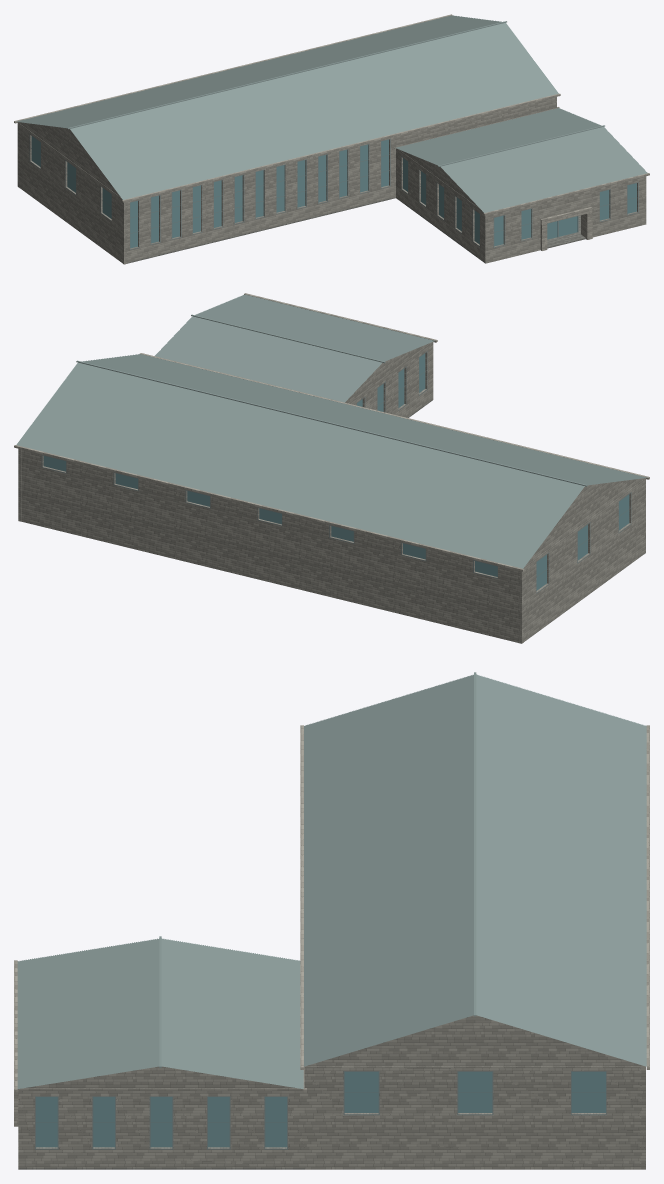
3 views of the same model, one above another, from view 1: azimuth 30°, elevation 25°; view 2: azimuth 150°, elevation 25°; view 3: azimuth 270°, elevation 25° (orthographic). The views are drawn at different scales.
Visible parts, largest first — view 1: auditorium__roof, auditorium__stone, auditorium__glass, auditorium__cream, auditorium__frame, auditorium__rough; view 2: auditorium__roof, auditorium__stone, auditorium__glass, auditorium__cream, auditorium__frame; view 3: auditorium__roof, auditorium__stone, auditorium__glass, auditorium__cream, auditorium__frame.
Part boxes in pixels (<box>): auditorium__roof: <box>16,15,647,212</box>; auditorium__stone: <box>17,97,646,264</box>; auditorium__glass: <box>31,136,636,248</box>; auditorium__cream: <box>14,14,649,250</box>; auditorium__frame: <box>29,134,638,249</box>; auditorium__rough: <box>127,197,585,263</box>; auditorium__roof: <box>16,294,646,568</box>; auditorium__stone: <box>18,342,645,643</box>; auditorium__glass: <box>43,353,629,590</box>; auditorium__cream: <box>14,293,649,571</box>; auditorium__frame: <box>41,351,631,593</box>; auditorium__roof: <box>17,672,646,1088</box>; auditorium__stone: <box>18,1015,645,1169</box>; auditorium__glass: <box>36,1072,605,1147</box>; auditorium__cream: <box>14,725,649,1126</box>; auditorium__frame: <box>35,1071,606,1149</box>.
Size of the model in its own units: 57.08 by 12.18 by 44.73.
Materials: 6 (3 with a texture image).
